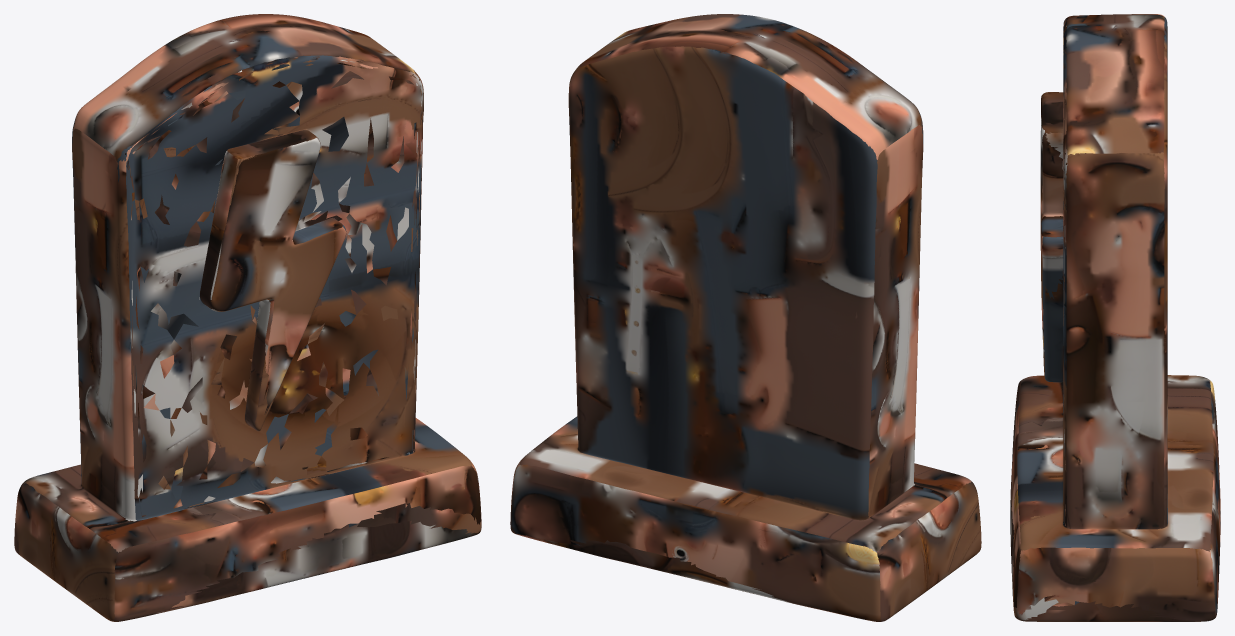
File: Tomb.fbx
3 views of the same model, side by side, from view 1: azimuth 30°, elevation 25°; view 2: azimuth 150°, elevation 25°; view 3: azimuth 270°, elevation 25° (orthographic).
Parts seen in each view (by area): view 1: node_0; view 2: node_0; view 3: node_0.
Part boxes in pixels (x1=…): node_0: x1=14, y1=14, x2=481, y2=621; node_0: x1=510, y1=14, x2=981, y2=621; node_0: x1=1010, y1=14, x2=1220, y2=621.
Bounding box in the file's own units: 71.58 × 92.86 × 35.23.
